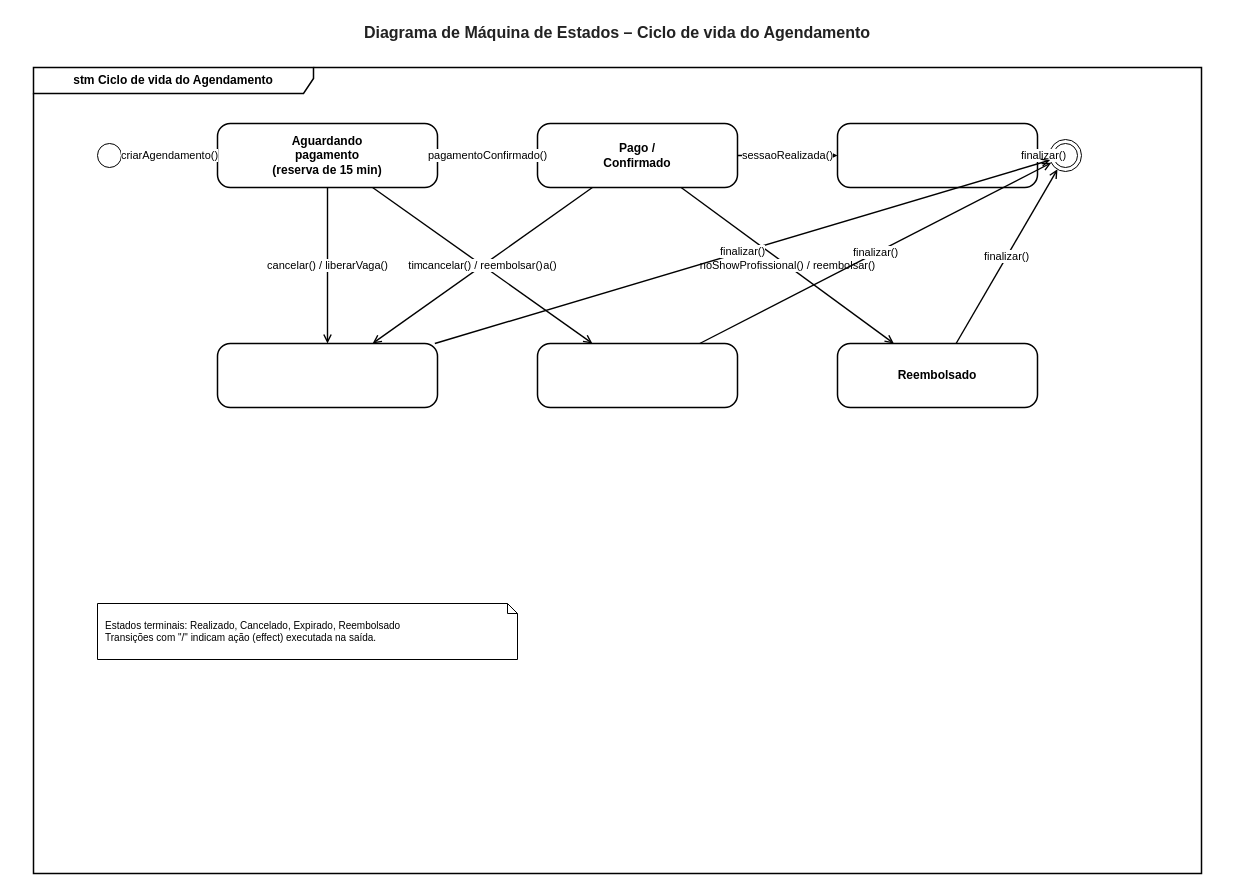
The diagram is 1234 pixels wide and 891 high, and some of its shapes have lost their labels. Each missing label, with the centre of its shape:
"Cancelado" goes at pixel 327 375.
"Expirado (sem pagamento em 15 min)" goes at pixel 637 375.
"Realizado (sessão ocorrida)" goes at pixel 937 155.
